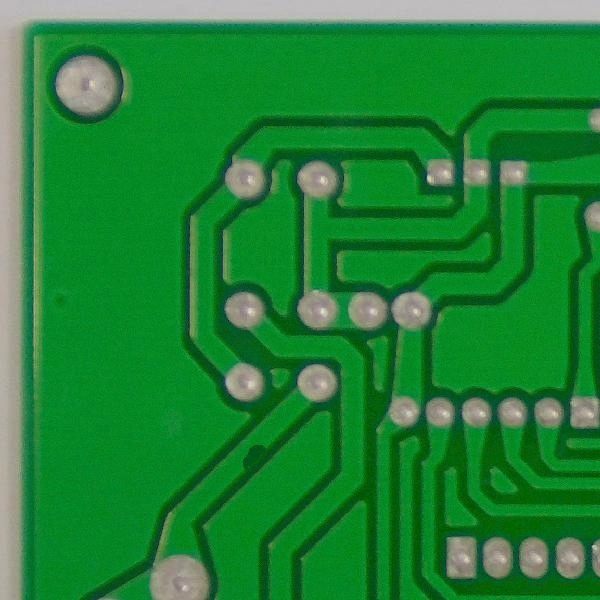mouse_bite: (231, 440, 276, 474)
